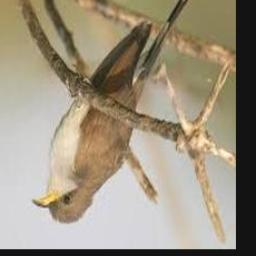Cuckoo: (32, 0, 207, 224)
